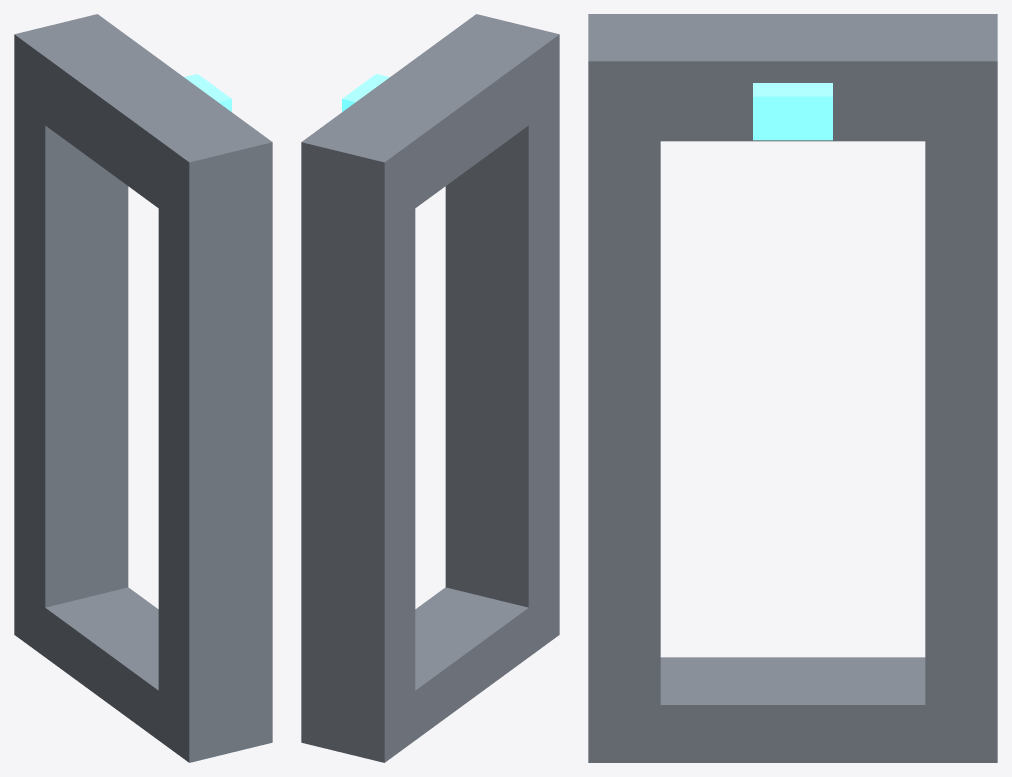
Rendered from place_triton_aperture_monolith.glb.
3 renders of one model, left to right at view 1: azimuth 30°, elevation 25°; view 2: azimuth 150°, elevation 25°; view 3: azimuth 270°, elevation 25°, orthographic. The views are drawn at different scales.
Parts seen in each view (by area): view 1: ApertureFrame, ApertureLamp; view 2: ApertureFrame, ApertureLamp; view 3: ApertureFrame, ApertureLamp.
Boxes of the visible parts, bbox=[...] form: ApertureFrame: bbox=[14, 14, 272, 762]; ApertureLamp: bbox=[184, 74, 231, 111]; ApertureFrame: bbox=[301, 14, 559, 762]; ApertureLamp: bbox=[342, 74, 389, 111]; ApertureFrame: bbox=[588, 14, 997, 762]; ApertureLamp: bbox=[753, 83, 832, 140].
Bounding box in the file's own units: 0.38 × 1.93 × 1.02.
